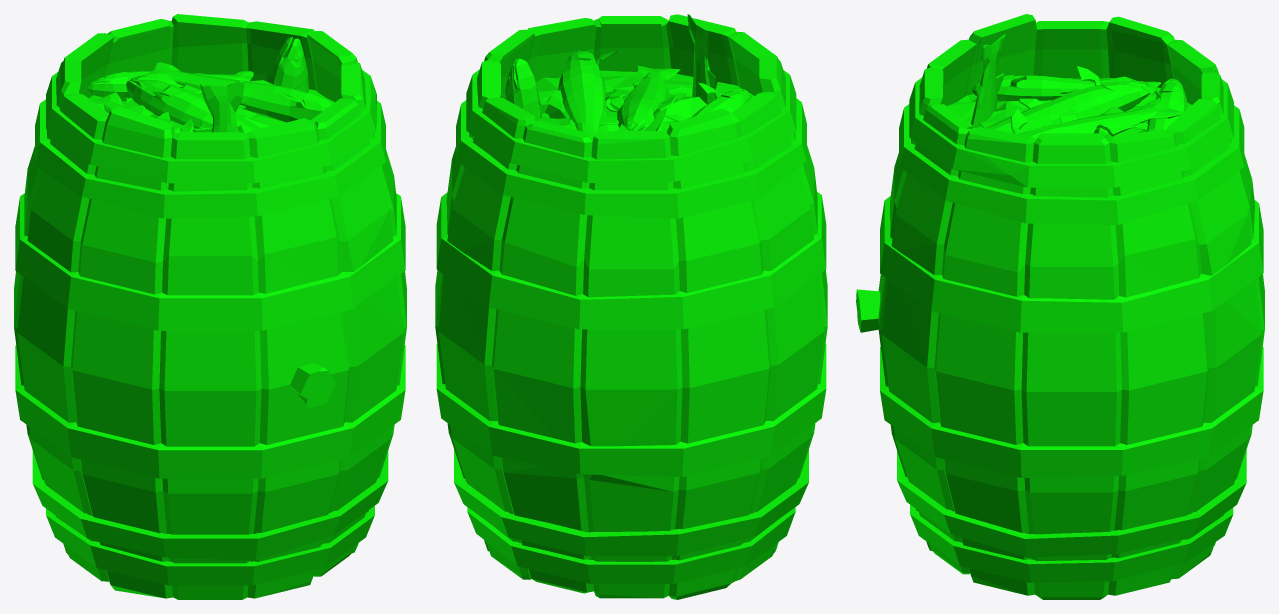
File: SM_Barrel_Wood_B_Fish_A_Fantasy.fbx
The picture shows the model from 3 angles, left to right: view 1: azimuth 30°, elevation 25°; view 2: azimuth 150°, elevation 25°; view 3: azimuth 270°, elevation 25°; orthographic projection.
Visible parts, largest first — view 1: barrel-wood-b-fish-a-fantasy; view 2: barrel-wood-b-fish-a-fantasy; view 3: barrel-wood-b-fish-a-fantasy.
Boxes of the visible parts, left/top/right/bottom form: barrel-wood-b-fish-a-fantasy: left=14, top=14, right=406, bottom=599; barrel-wood-b-fish-a-fantasy: left=435, top=14, right=827, bottom=599; barrel-wood-b-fish-a-fantasy: left=856, top=14, right=1264, bottom=599.
Size of the model in its own units: 0.9461 by 1.33 by 1.
